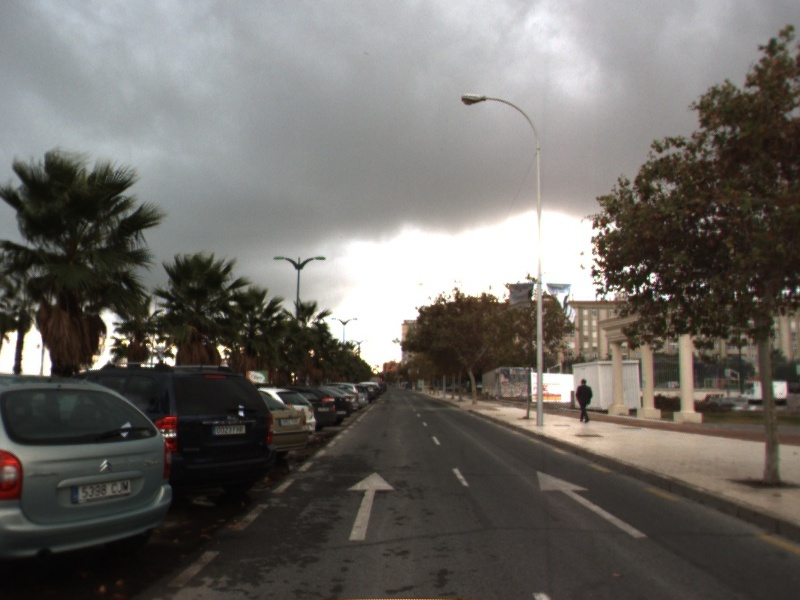STRAIGHT: (536, 470, 650, 539), (345, 471, 396, 542)
